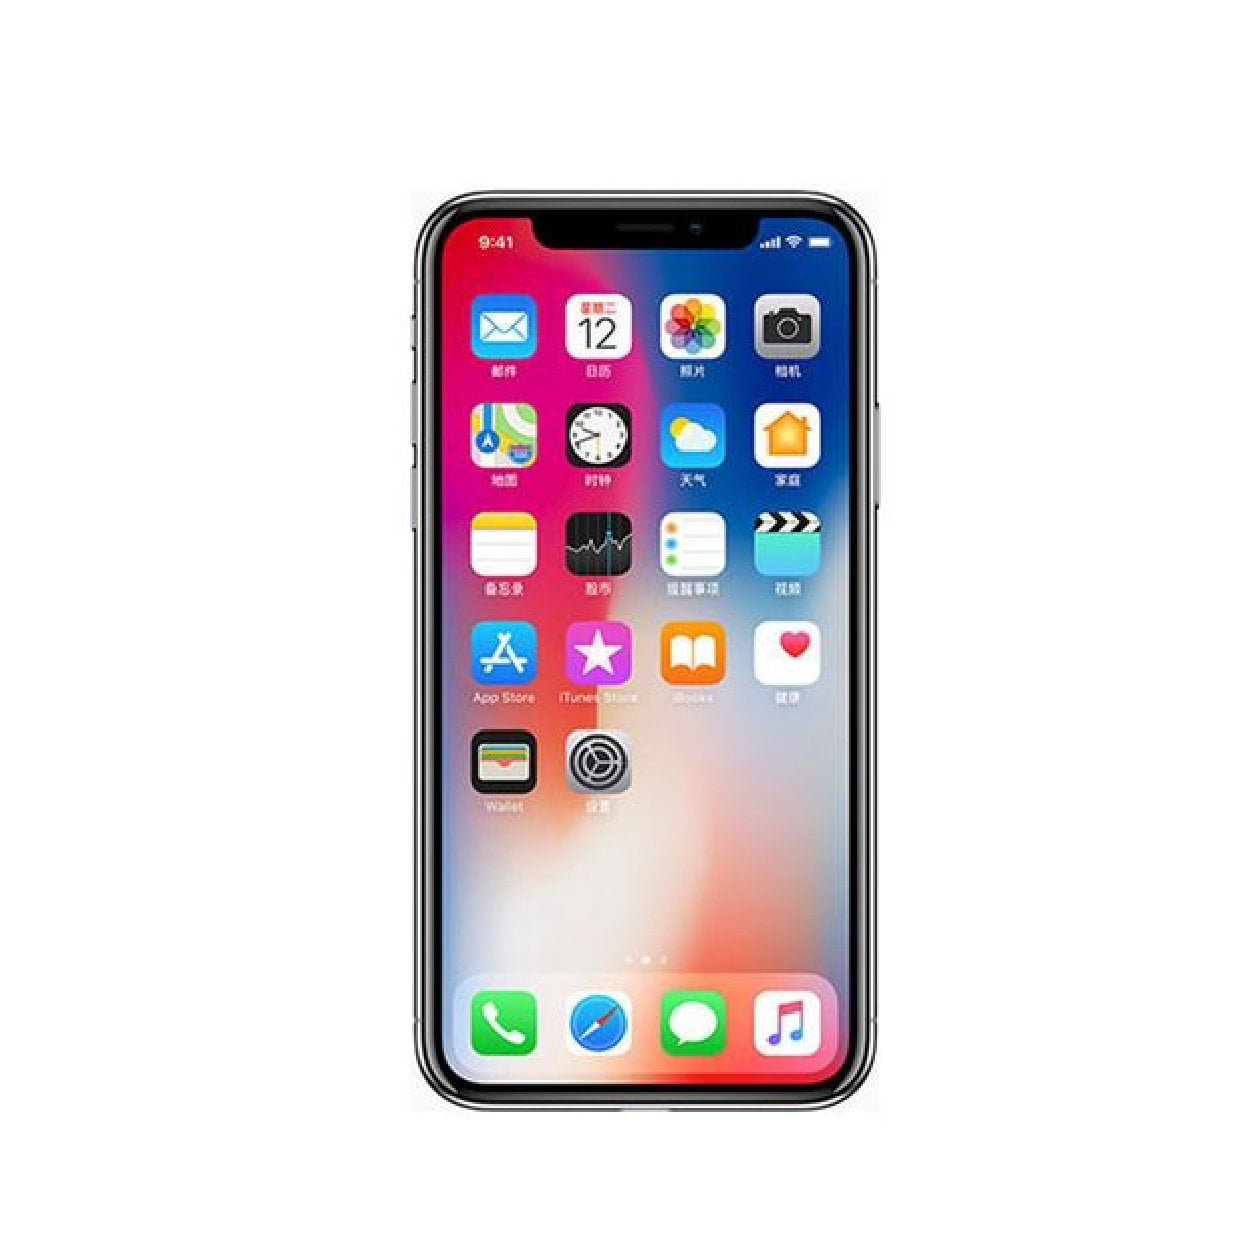phone: (391, 173, 900, 1123)
